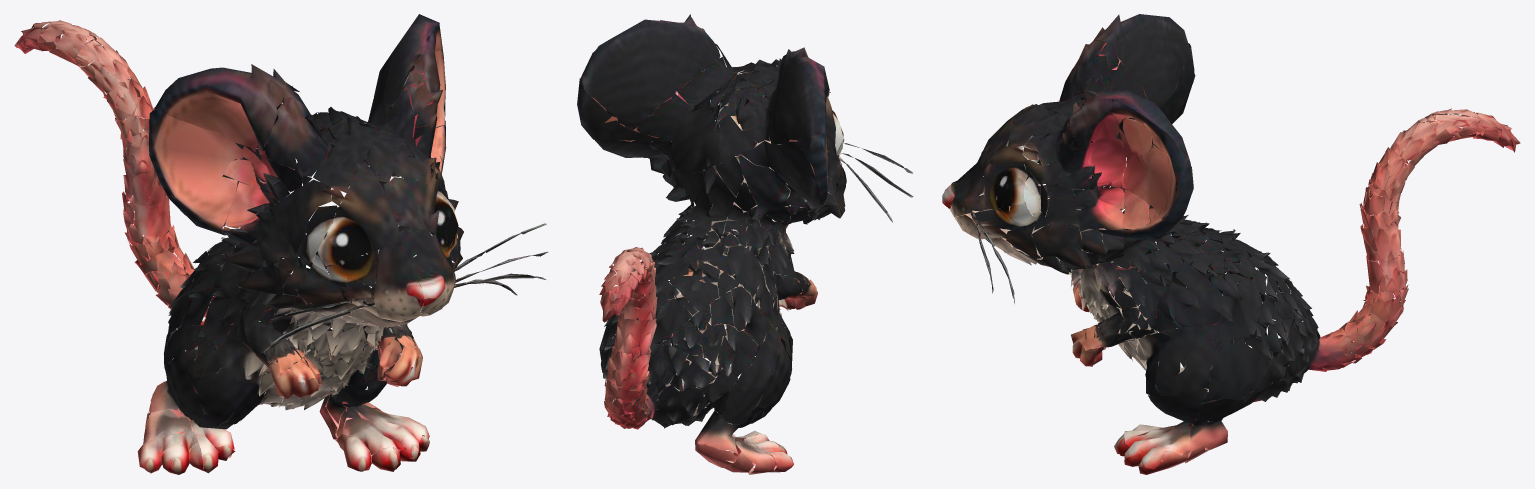
File: raton_negro.glb
3 views of the same model, side by side, from view 1: azimuth 30°, elevation 25°; view 2: azimuth 150°, elevation 25°; view 3: azimuth 270°, elevation 25° (orthographic). The views are drawn at different scales.
Visible parts, largest first — view 1: Mesh_0; view 2: Mesh_0; view 3: Mesh_0.
Boxes of the visible parts, left/top/right/bottom form: Mesh_0: left=14, top=14, right=548, bottom=474; Mesh_0: left=577, top=14, right=913, bottom=474; Mesh_0: left=942, top=14, right=1520, bottom=474.
Size of the model in its own units: 0.9601 by 1.38 by 1.9.
1 material, 1 textured.
